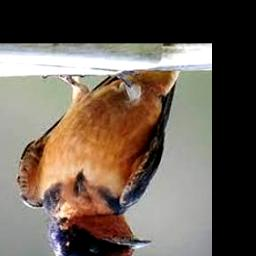Swallow: (16, 70, 179, 256)
